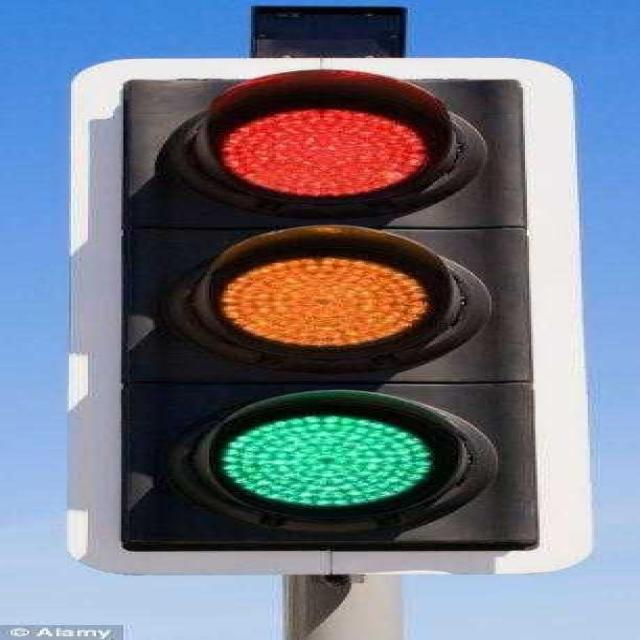Traffic Light -Green-: (120, 388, 535, 551)
Traffic Light -Red-: (114, 56, 523, 220)
Traffic Light -Yellow-: (126, 228, 527, 378)
